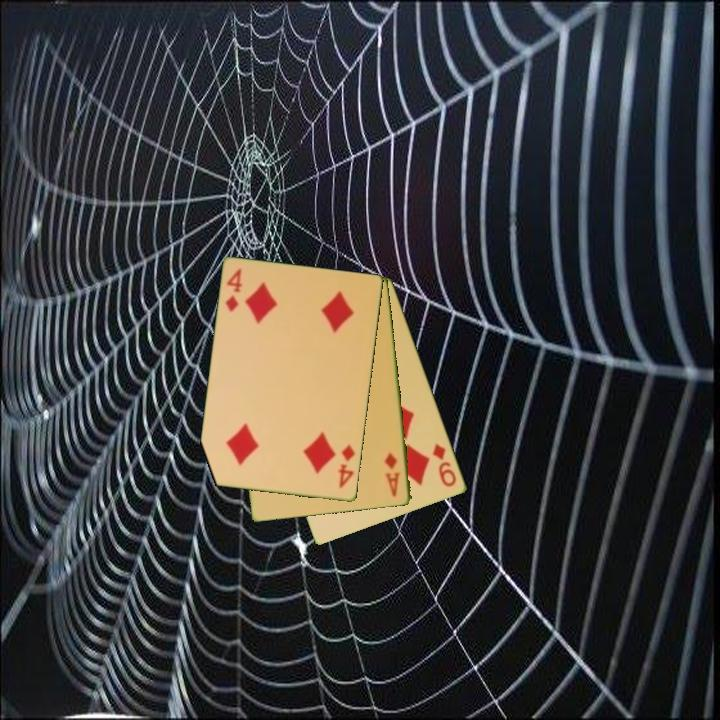4d: (222, 265, 246, 315), (335, 441, 358, 491)
9d: (429, 440, 459, 490)
Ad: (381, 449, 403, 500)
